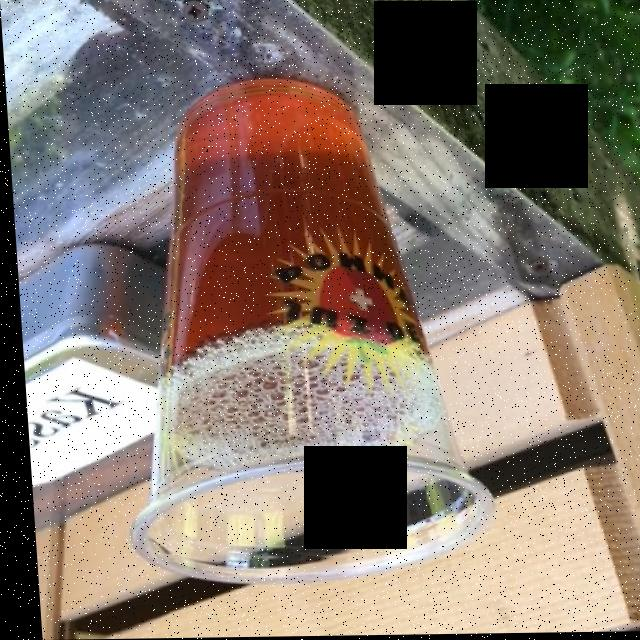juice-apple: (156, 106, 431, 456)
